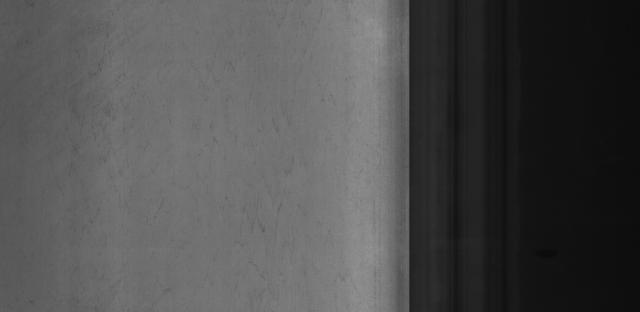silk_spot: (230, 109, 306, 265)
